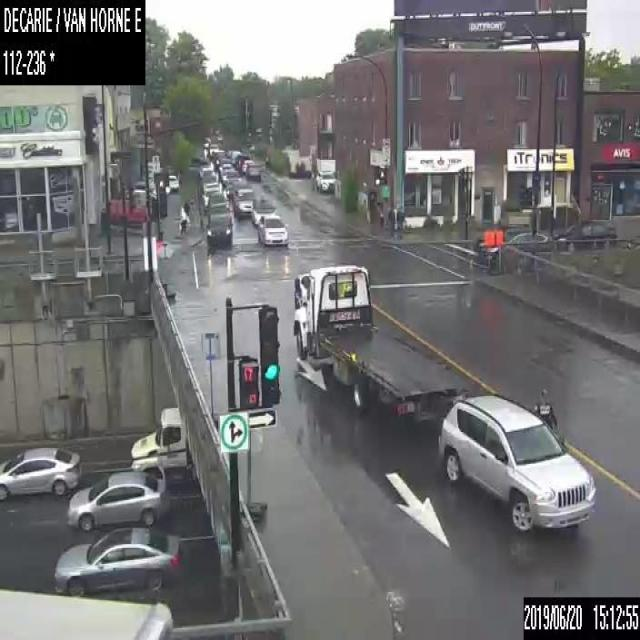construction: (240, 426, 266, 520), (200, 329, 218, 434), (156, 235, 174, 298), (482, 228, 493, 273), (494, 228, 503, 274)
pedestrian: (528, 384, 558, 428), (177, 198, 189, 234)
vehicle: (292, 264, 470, 420), (438, 394, 595, 529), (0, 586, 171, 638), (51, 526, 180, 593), (68, 468, 165, 529), (131, 405, 197, 489), (0, 446, 79, 498), (474, 226, 554, 260), (552, 219, 616, 245), (258, 215, 288, 248), (204, 211, 232, 246), (233, 186, 255, 218), (252, 192, 274, 222), (202, 181, 225, 208), (206, 189, 229, 213), (316, 168, 336, 192), (226, 177, 242, 197), (235, 153, 248, 171), (246, 163, 259, 181), (167, 173, 178, 191), (218, 163, 234, 175), (241, 158, 254, 172), (209, 142, 218, 155)
